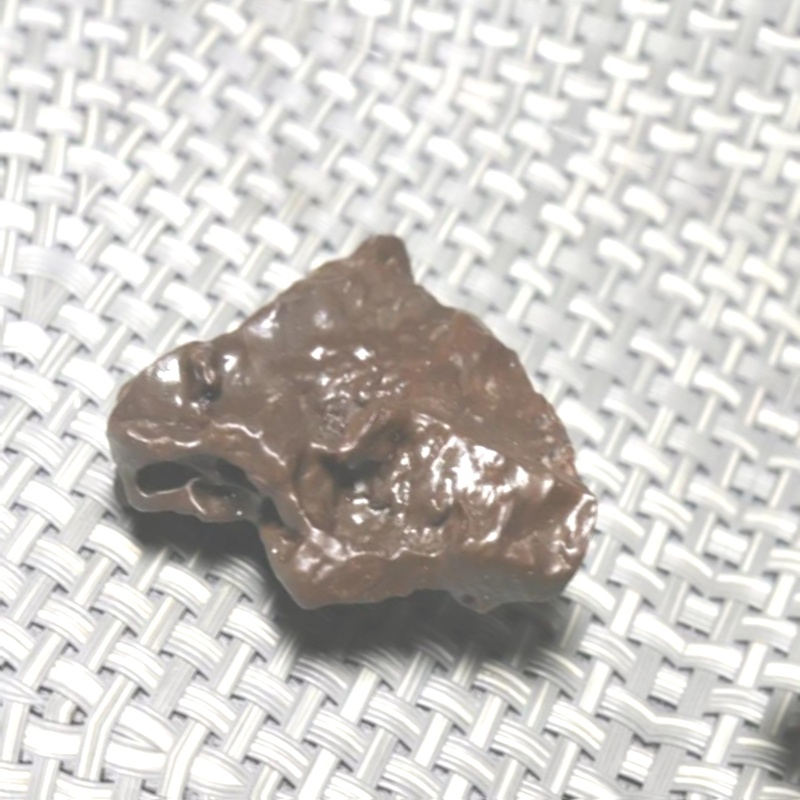halobolite: (52, 151, 683, 718)
